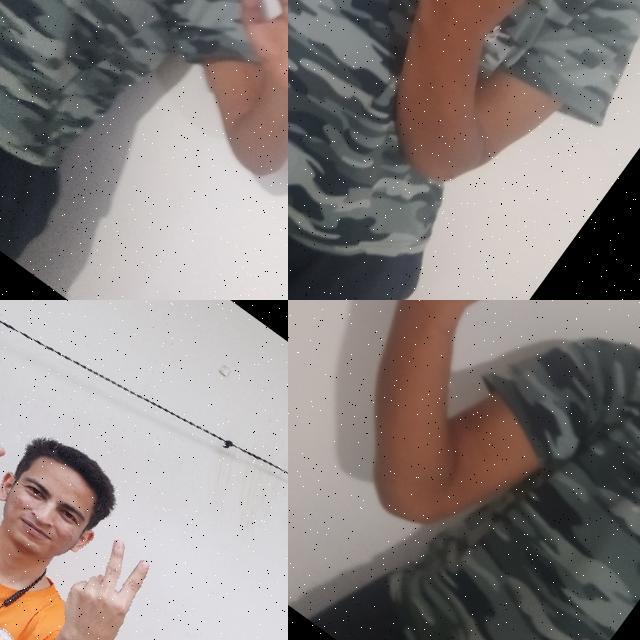Dulya: (368, 0, 582, 92), (351, 300, 563, 368)
Okay: (184, 0, 288, 135)
Reversed Victory: (33, 523, 173, 640)
